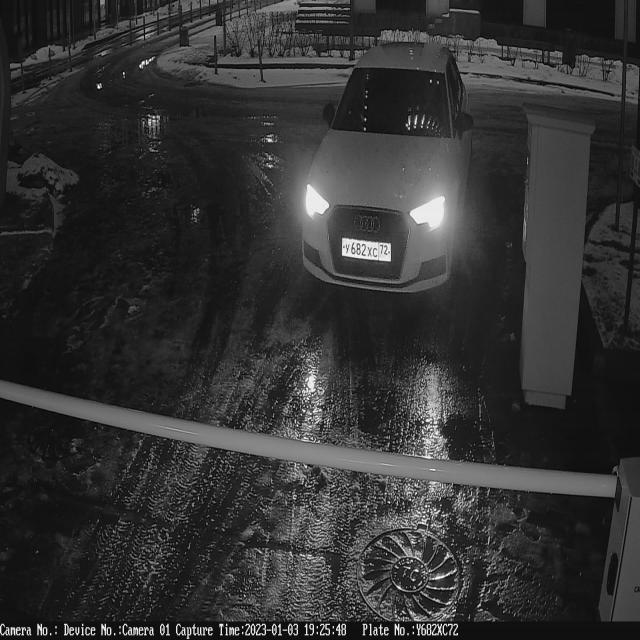car-plate-numbers: (341, 233, 394, 267)
